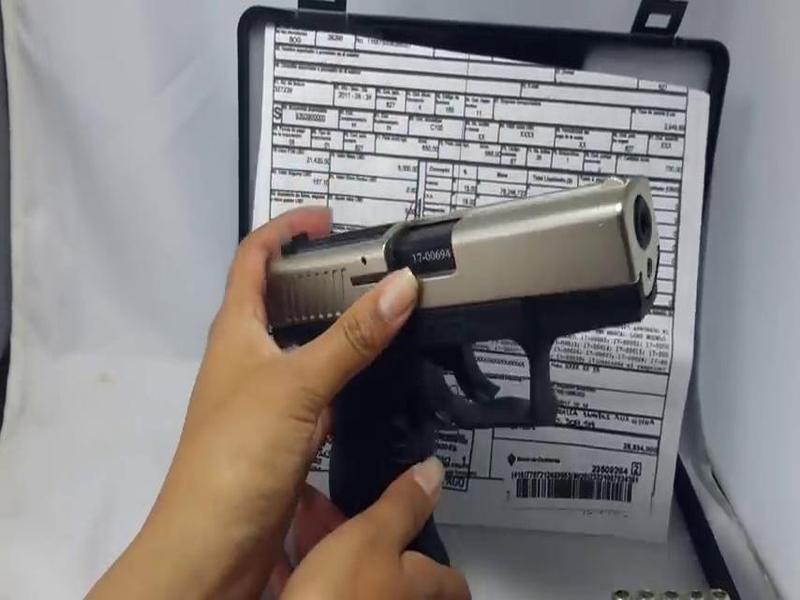Pistola: (217, 162, 687, 573)
